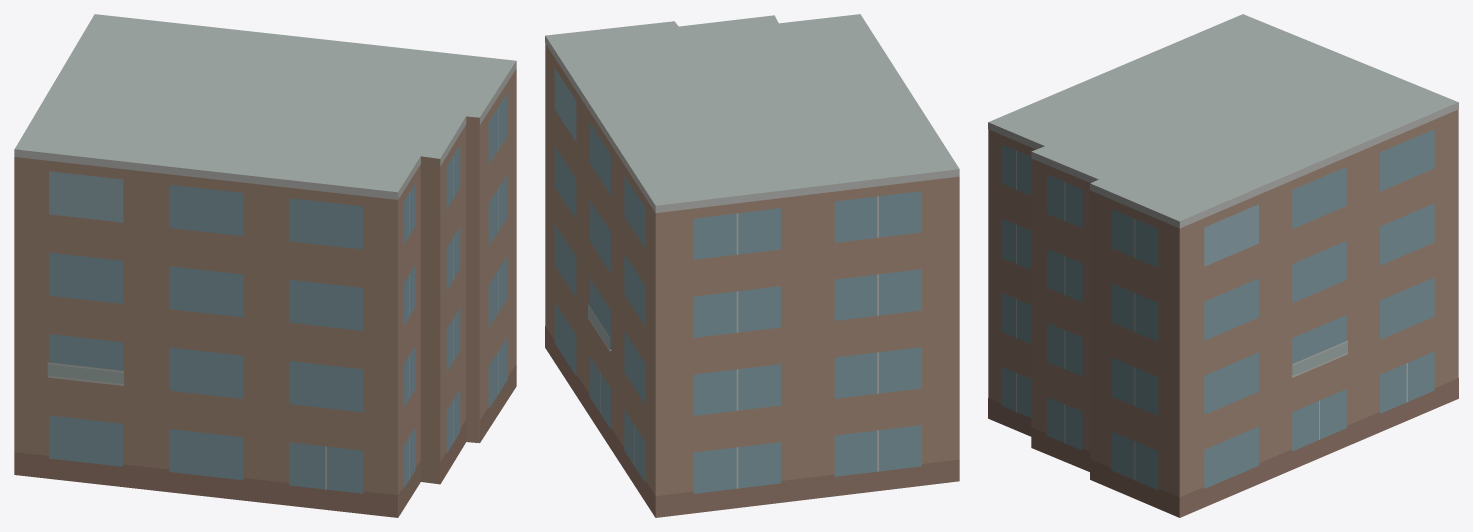
The model's file is survey-upis-32622161.glb.
3 views of the same model, side by side, from view 1: azimuth 30°, elevation 25°; view 2: azimuth 150°, elevation 25°; view 3: azimuth 270°, elevation 25° (orthographic). The views are drawn at different scales.
Visible parts, largest first — view 1: survey-upis-32622161.tmp; view 2: survey-upis-32622161.tmp; view 3: survey-upis-32622161.tmp.
Part boxes in pixels (x1,y1,x2,y2): survey-upis-32622161.tmp: [14, 14, 516, 517]; survey-upis-32622161.tmp: [545, 14, 959, 517]; survey-upis-32622161.tmp: [988, 14, 1458, 517].
Bounding box in the file's own units: 15.63 × 10.4 × 14.98.
